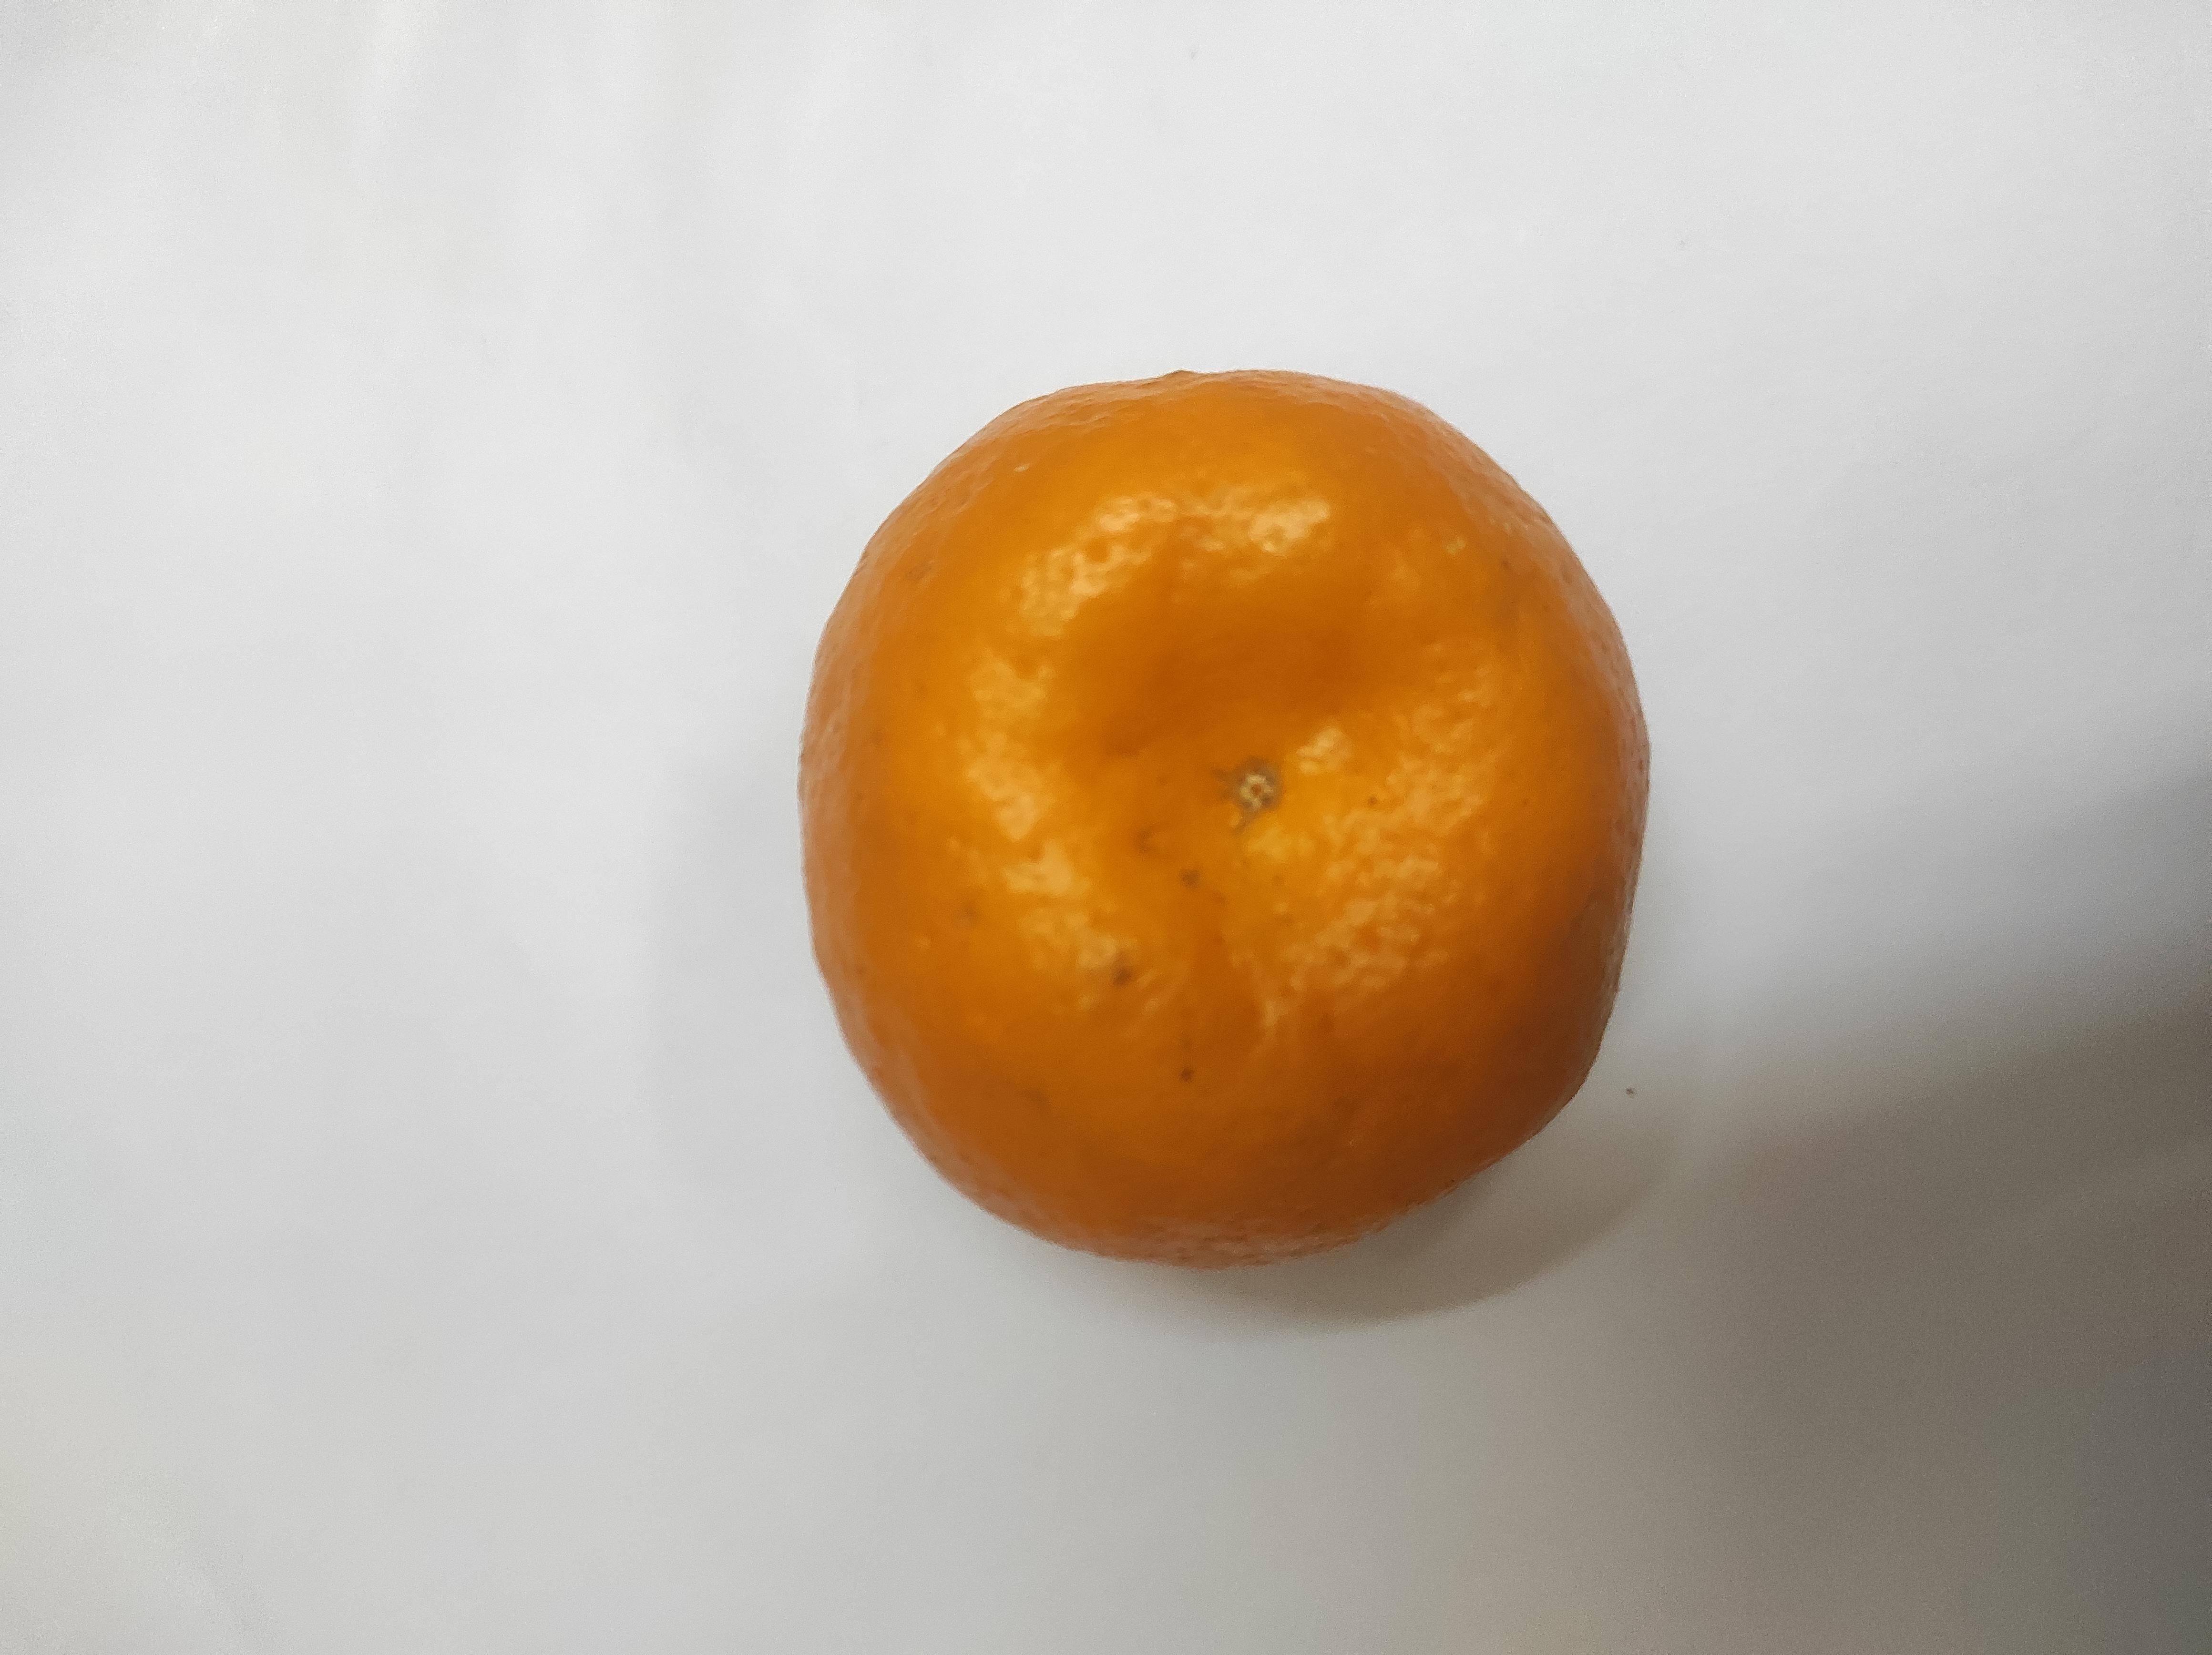Unripe: (791, 386, 1659, 1259)
